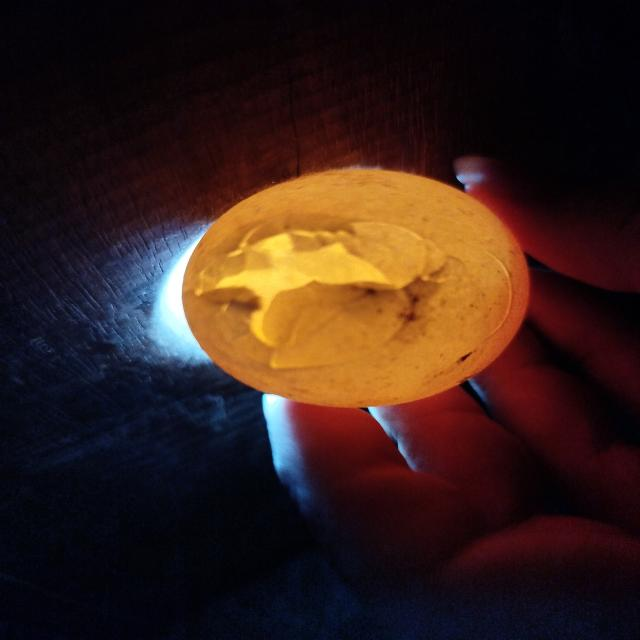Rachadura: (182, 222, 458, 372)
